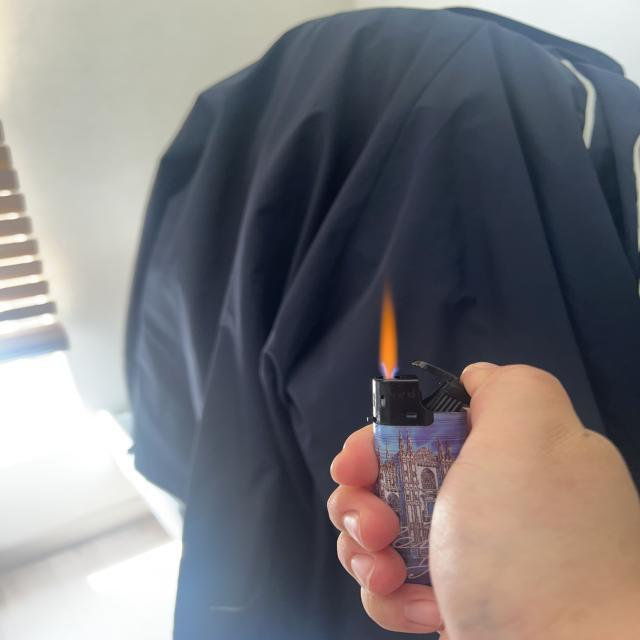fire: (379, 290, 402, 377)
